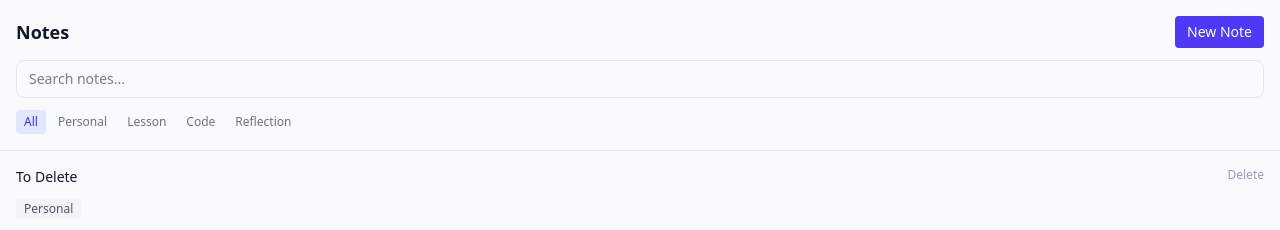
Test case: NoteList › deletes a note
# Find the delete button by its text content
Click the button with aria-label "Delete note To Delete" at x=1246, y=175, box [1228,167,1264,183]
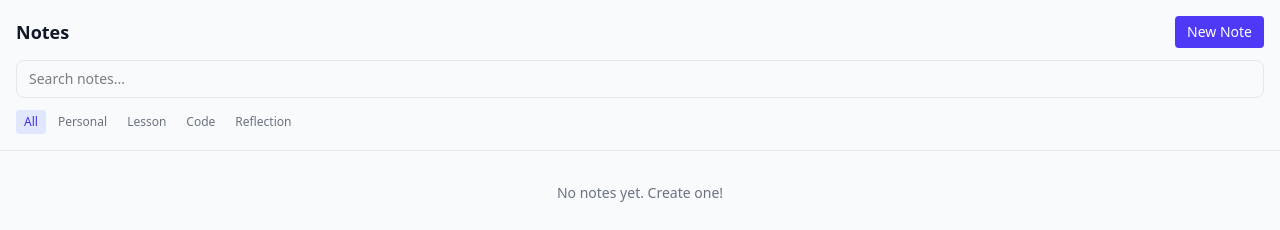
Check: the heading "To Delete" is gone
